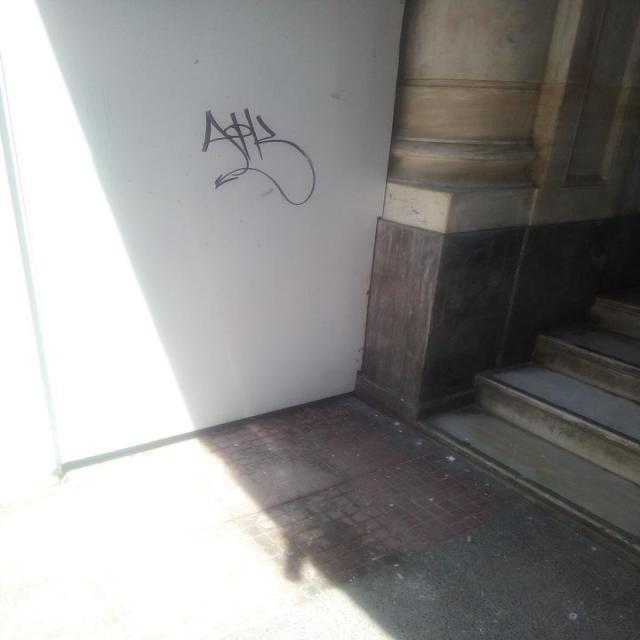nonspitting: (202, 108, 318, 206)
